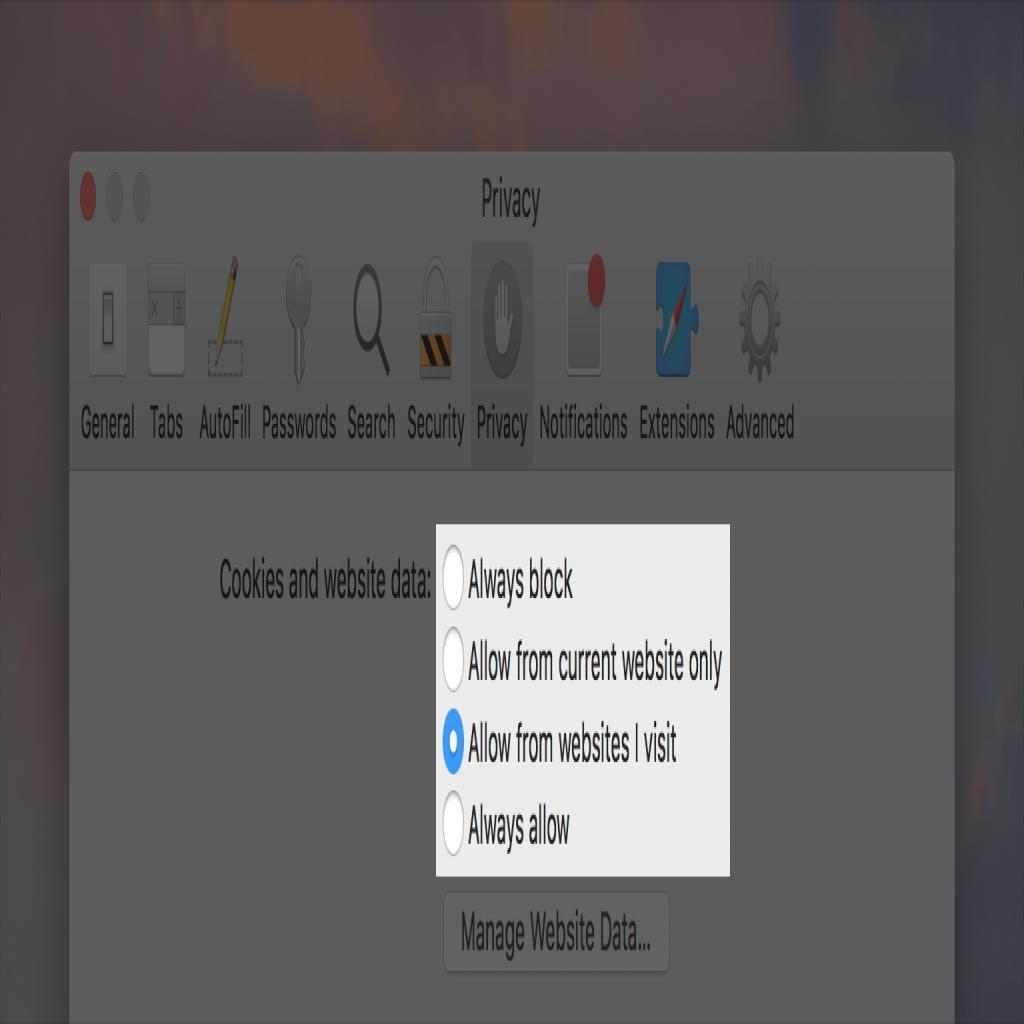button: (447, 895, 673, 973)
label: (468, 637, 725, 692), (218, 555, 435, 609), (470, 722, 680, 768), (468, 552, 579, 608), (468, 802, 571, 859)
radio: (440, 706, 469, 775), (442, 544, 468, 610), (442, 790, 468, 856), (443, 626, 467, 693)
